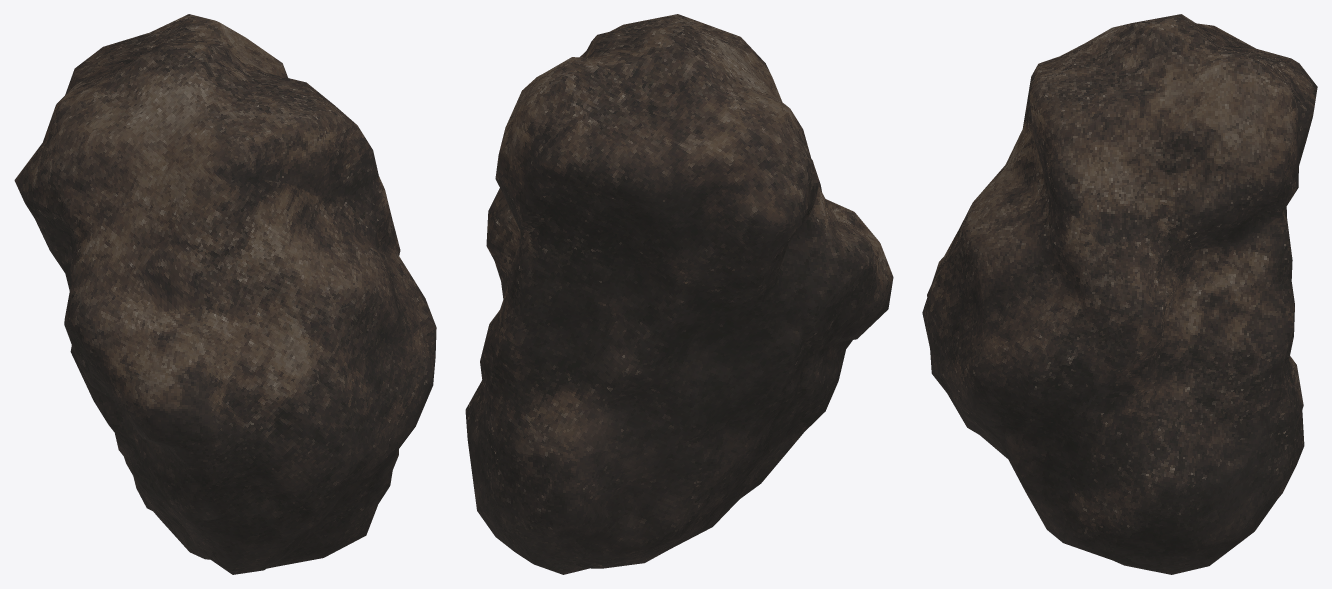
File: SM_RP2_Rock_8m_2.001.glb
3 views of the same model, side by side, from view 1: azimuth 30°, elevation 25°; view 2: azimuth 150°, elevation 25°; view 3: azimuth 270°, elevation 25° (orthographic). The views are drawn at different scales.
Parts seen in each view (by area): view 1: SM_RP2_Rock_8m_2.001; view 2: SM_RP2_Rock_8m_2.001; view 3: SM_RP2_Rock_8m_2.001.
Part boxes in pixels (left/top/right/bottom): SM_RP2_Rock_8m_2.001: left=14, top=14, right=436, bottom=574; SM_RP2_Rock_8m_2.001: left=465, top=14, right=893, bottom=574; SM_RP2_Rock_8m_2.001: left=922, top=14, right=1317, bottom=574.
Bounding box in the file's own units: 10.14 × 14.79 × 10.6.
1 material, 1 textured.
